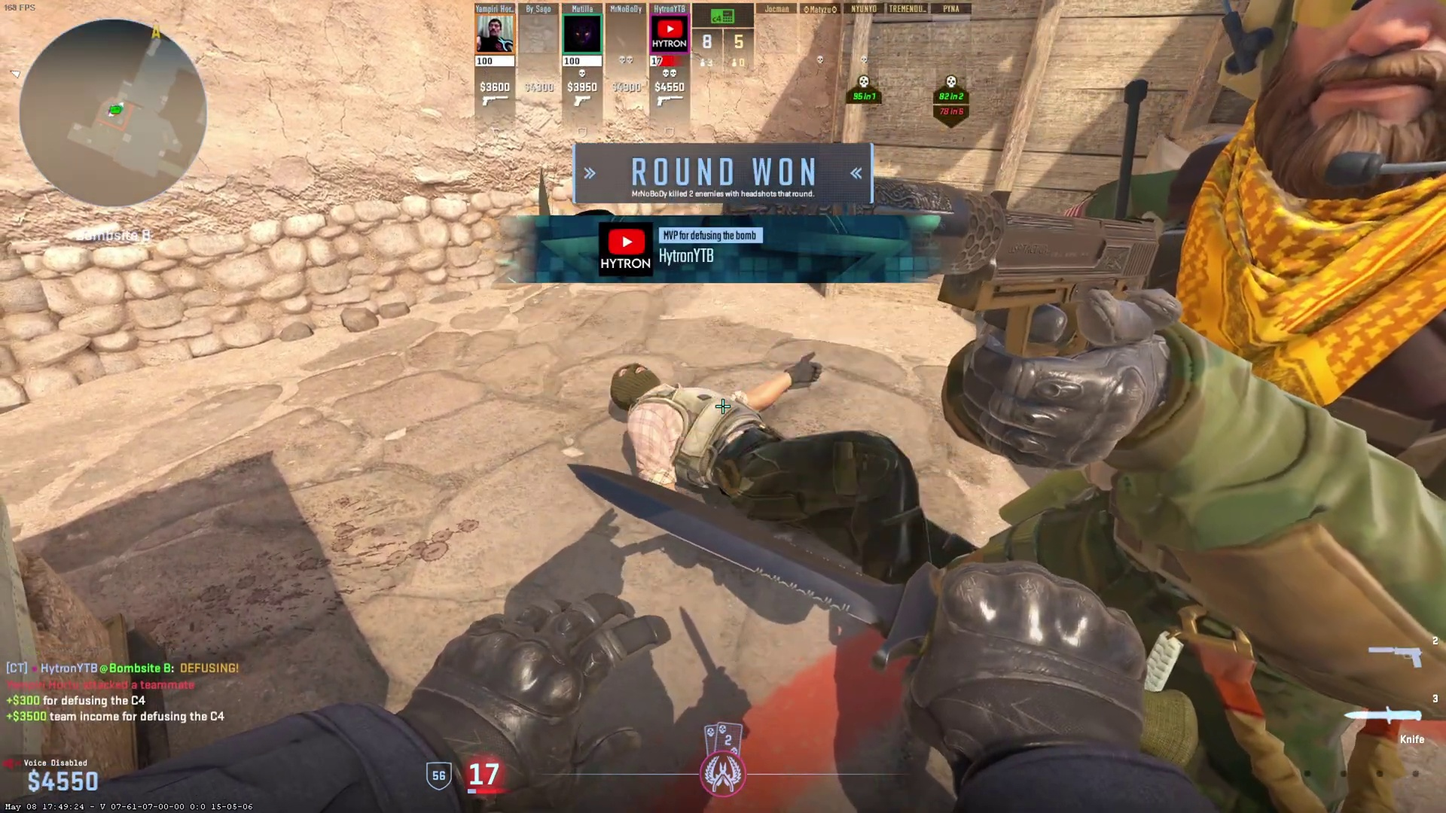CT: (1017, 0, 1446, 805)
